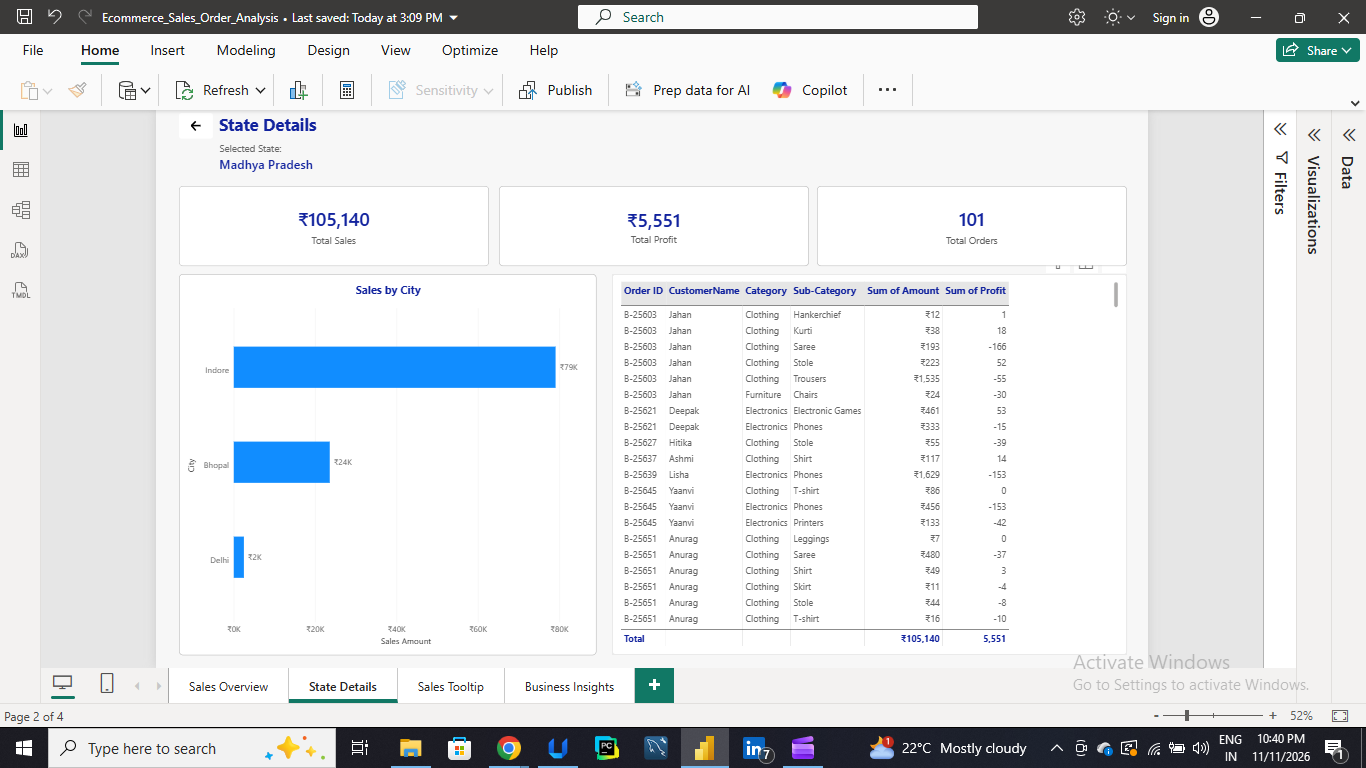

What the dashboard file says about the page in this screenshot:
{"tool":"powerbi","page":{"name":"State Details","canvas":[1920,1080],"ordinal":1},"visuals":[{"type":"clusteredBarChart","title":"Sales by City","fields":{"Category":["List_of_Orders.City"],"Y":["Sum(Order_Details.Amount)"]},"box":[44.6,316.8,807.9,737.7],"z":0},{"type":"tableEx","fields":{"Values":["List_of_Orders.Order ID","List_of_Orders.CustomerName","Order_Details.Category","Order_Details.Sub-Category","Sum(Order_Details.Amount)","Sum(Order_Details.Profit)"]},"box":[882.6,317.4,996.8,737.4],"z":1000},{"type":"actionButton","title":"Go Back","box":[44.6,6.4,65.7,50],"z":2000},{"type":"textbox","box":[121.2,6.4,272.1,51],"z":3000},{"type":"cardVisual","fields":{"Data":["List_of_Orders.Selected State"]},"box":[106.3,57.4,287.1,67.1],"z":4000},{"type":"cardVisual","title":"Total Sales","fields":{"Data":["Sum(Order_Details.Amount)"]},"box":[44.6,146.7,599.5,155.2],"z":5000},{"type":"cardVisual","title":"Total Profit","fields":{"Data":["Order_Details.Total Profit Display"]},"box":[663.3,146.7,599.5,155.2],"z":6000},{"type":"cardVisual","title":"Total Orders","fields":{"Data":["Count(Order_Details.Order ID)"]},"box":[1279.8,146.7,599.5,155.2],"z":7000}]}

Visuals, with their boxes on the page's 1920x1080 design canvas (x1, y1, x2, y2). These are canvas units, not pixel positions in the 1366x768 screenshot, which may show the page scaled, cropped or inside an application window:
"Sales by City" clusteredBarChart: bbox(45, 317, 852, 1054)
tableEx - List_of_Orders.Order ID x List_of_Orders.CustomerName: bbox(883, 317, 1879, 1055)
"Go Back" actionButton: bbox(45, 6, 110, 56)
textbox: bbox(121, 6, 393, 57)
cardVisual - List_of_Orders.Selected State: bbox(106, 57, 393, 124)
"Total Sales" cardVisual: bbox(45, 147, 644, 302)
"Total Profit" cardVisual: bbox(663, 147, 1263, 302)
"Total Orders" cardVisual: bbox(1280, 147, 1879, 302)
